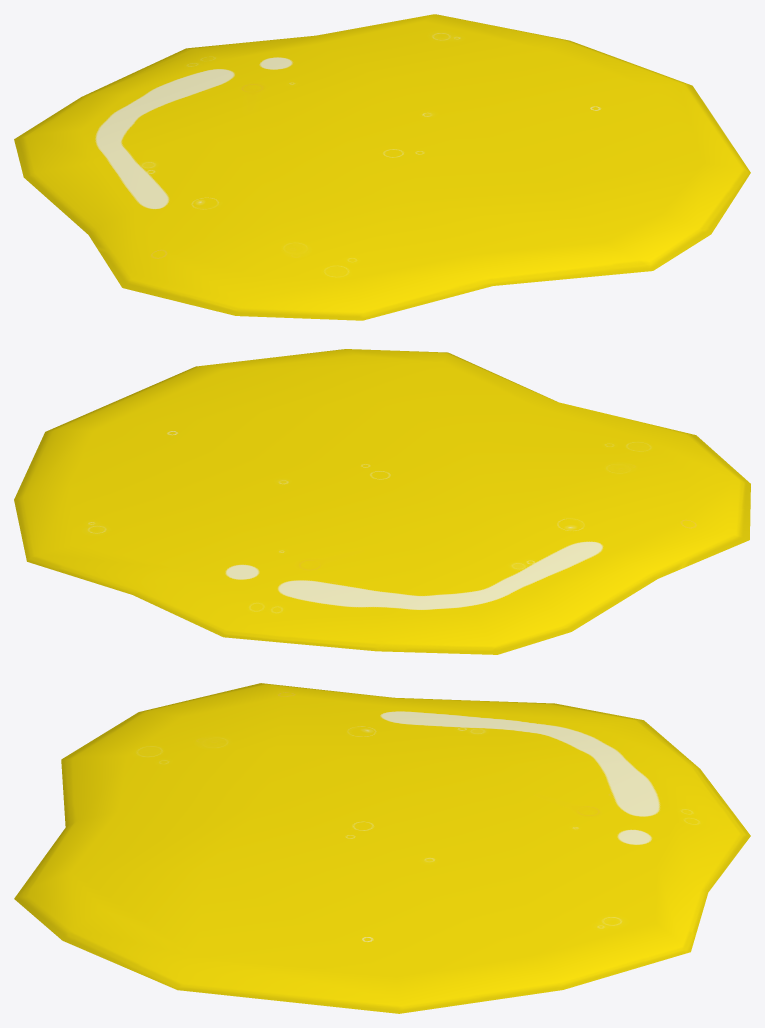
File: san.fbx
3 renders of one model, top to bottom at view 1: azimuth 30°, elevation 25°; view 2: azimuth 150°, elevation 25°; view 3: azimuth 270°, elevation 25°, orthographic. The views are drawn at different scales.
Parts seen in each view (by area): view 1: kaihuku2; view 2: kaihuku2; view 3: kaihuku2.
Boxes of the visible parts, <box> form: kaihuku2: <box>14,14,750,320</box>; kaihuku2: <box>14,349,750,654</box>; kaihuku2: <box>14,683,750,1013</box>.
Size of the model in its own units: 72.98 by 2.38 by 68.72.
1 material, 1 textured.
